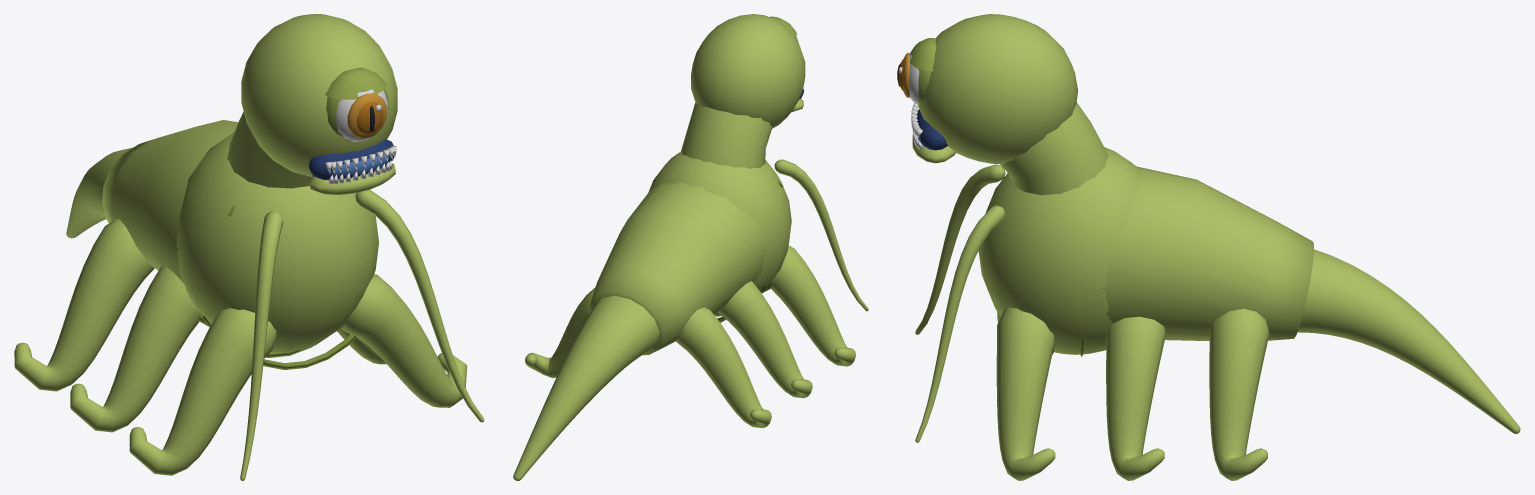
File: pseudomonas.glb
3 views of the same model, side by side, from view 1: azimuth 30°, elevation 25°; view 2: azimuth 150°, elevation 25°; view 3: azimuth 270°, elevation 25° (orthographic). The views are drawn at different scales.
Visible parts, largest first — view 1: pseudomonas.body, pseudomonas.head, pseudomonas.leg_r1, pseudomonas.leg_r3, pseudomonas.leg_r2, pseudomonas.leg_l1, pseudomonas.tentacles_a, pseudomonas.tail, pseudomonas.leg_l2; view 2: pseudomonas.body, pseudomonas.head, pseudomonas.tail, pseudomonas.leg_r3, pseudomonas.leg_r2, pseudomonas.leg_r1, pseudomonas.tentacles_a, pseudomonas.leg_l3; view 3: pseudomonas.body, pseudomonas.head, pseudomonas.tail, pseudomonas.leg_l3, pseudomonas.leg_l1, pseudomonas.leg_l2, pseudomonas.tentacles_a.
Part boxes in pixels (x1,y1,x2,y2): pseudomonas.body: [102, 120, 378, 369]; pseudomonas.head: [227, 14, 397, 194]; pseudomonas.leg_r1: [129, 308, 276, 475]; pseudomonas.leg_r3: [14, 218, 154, 391]; pseudomonas.leg_r2: [70, 266, 201, 432]; pseudomonas.leg_l1: [341, 274, 467, 407]; pseudomonas.tentacles_a: [240, 189, 484, 480]; pseudomonas.tail: [66, 147, 132, 238]; pseudomonas.leg_l2: [337, 328, 386, 364]; pseudomonas.body: [589, 152, 791, 355]; pseudomonas.head: [681, 14, 805, 168]; pseudomonas.tail: [513, 295, 659, 480]; pseudomonas.leg_r3: [676, 307, 771, 428]; pseudomonas.leg_r2: [717, 281, 812, 398]; pseudomonas.leg_r1: [770, 245, 855, 366]; pseudomonas.tentacles_a: [774, 159, 868, 311]; pseudomonas.leg_l3: [525, 287, 595, 378]; pseudomonas.body: [978, 147, 1313, 356]; pseudomonas.head: [897, 14, 1108, 195]; pseudomonas.tail: [1298, 249, 1520, 433]; pseudomonas.leg_l3: [1209, 308, 1269, 480]; pseudomonas.leg_l1: [996, 307, 1055, 480]; pseudomonas.leg_l2: [1106, 316, 1166, 480]; pseudomonas.tentacles_a: [915, 164, 1005, 442].
Size of the model in its own units: 1.18 by 1.45 by 2.05.
